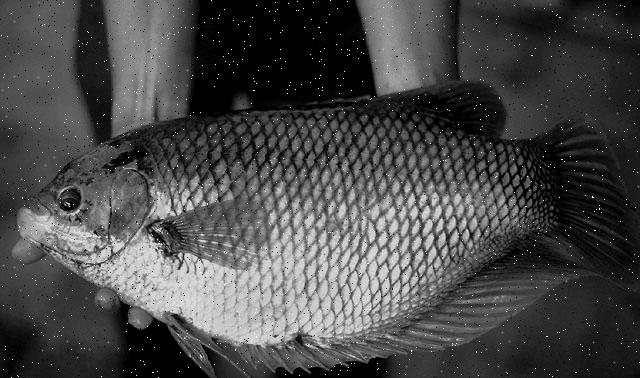Mulut: (0, 173, 60, 258)
Sirip Dada: (131, 184, 291, 288)
Sirip Ekor: (518, 94, 640, 302)
Sirip Perut: (153, 302, 260, 378)
Sirip Punggung: (334, 63, 528, 156)
